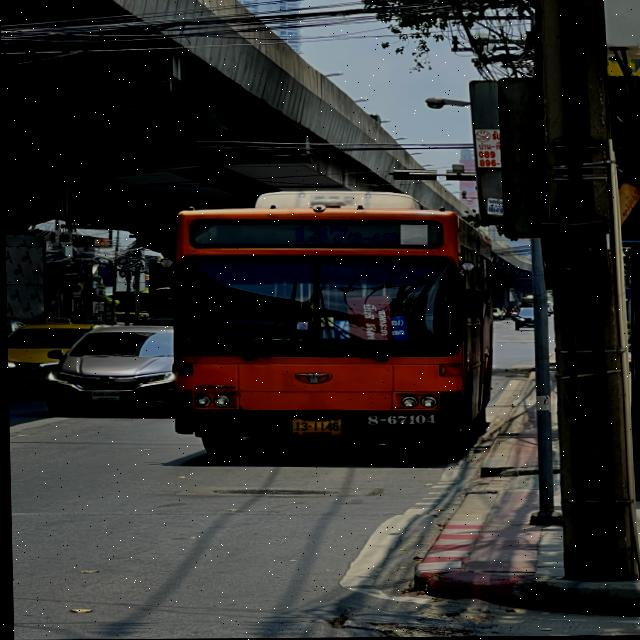BMTA-bus: (161, 185, 498, 453)
Bus Line Number: (286, 224, 401, 247)
Bus Side Number: (361, 415, 437, 427)
Destination Sign: (323, 317, 408, 341)
